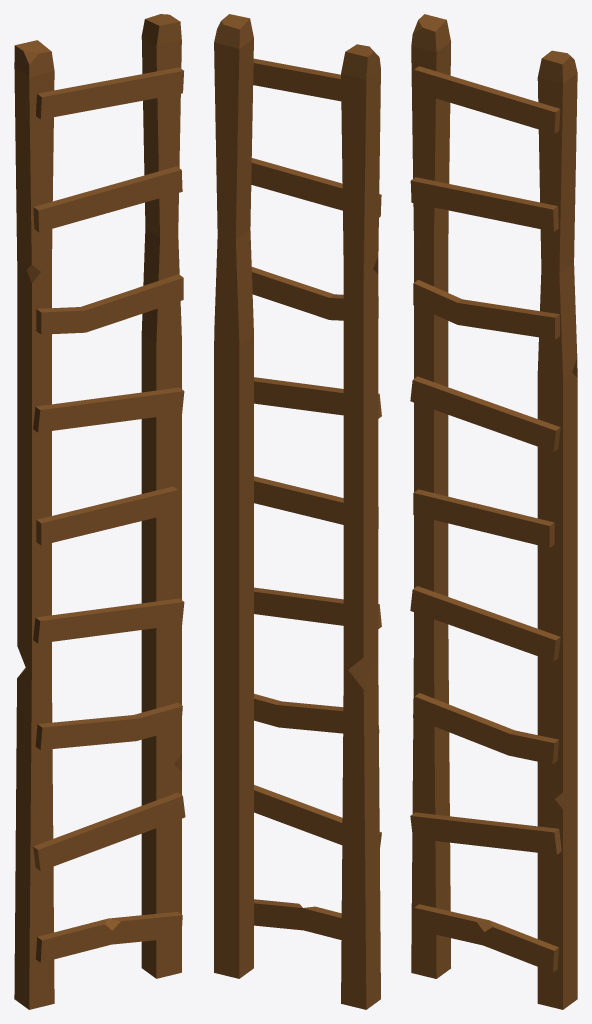
File: Ladder.001.fbx
The picture shows the model from 3 angles, left to right: view 1: azimuth 30°, elevation 25°; view 2: azimuth 150°, elevation 25°; view 3: azimuth 330°, elevation 25°; orthographic projection.
Parts seen in each view (by area): view 1: ladder.001; view 2: ladder.001; view 3: ladder.001.
Part boxes in pixels (x1=…): ladder.001: x1=14, y1=14, x2=185, y2=1009; ladder.001: x1=214, y1=14, x2=381, y2=1009; ladder.001: x1=410, y1=14, x2=577, y2=1009.
Size of the model in its own units: 0.7231 by 4.3 by 0.16.
